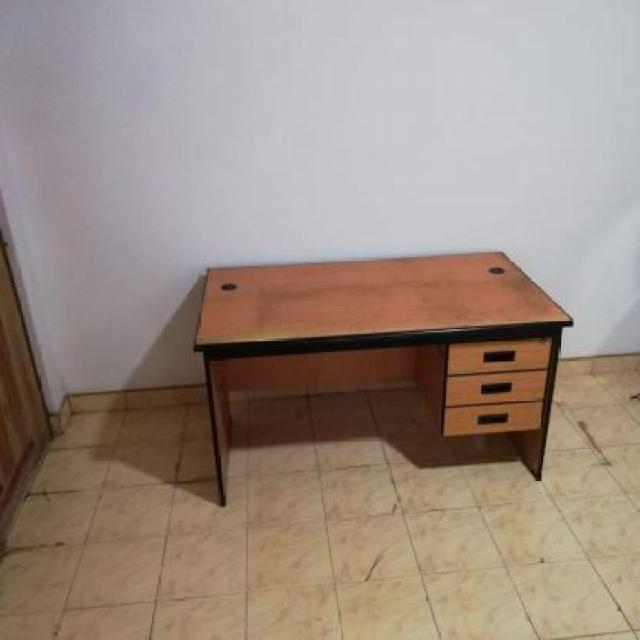tables: (192, 249, 574, 506)
